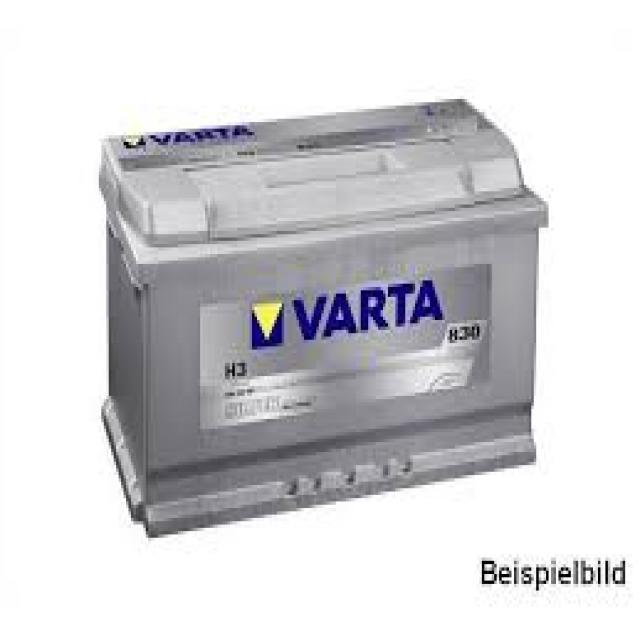battery: (99, 90, 553, 540)
